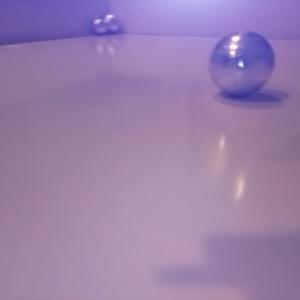alive_ball: (209, 31, 274, 97), (103, 14, 121, 33), (92, 18, 107, 34)
